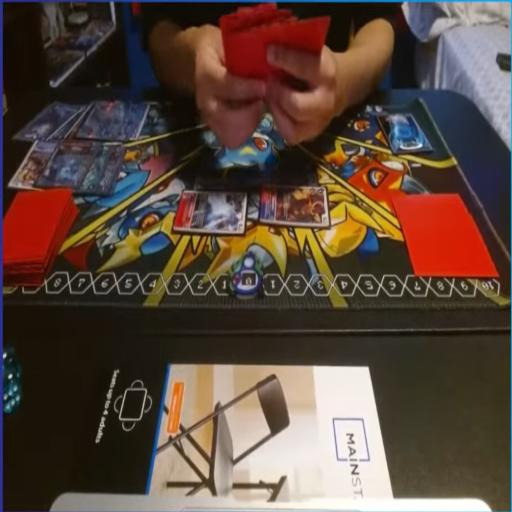card: (172, 189, 248, 238), (36, 140, 102, 190), (258, 184, 331, 227), (12, 100, 80, 142), (8, 139, 59, 192), (73, 98, 133, 140), (78, 144, 115, 193), (114, 102, 152, 146), (97, 146, 128, 198)
